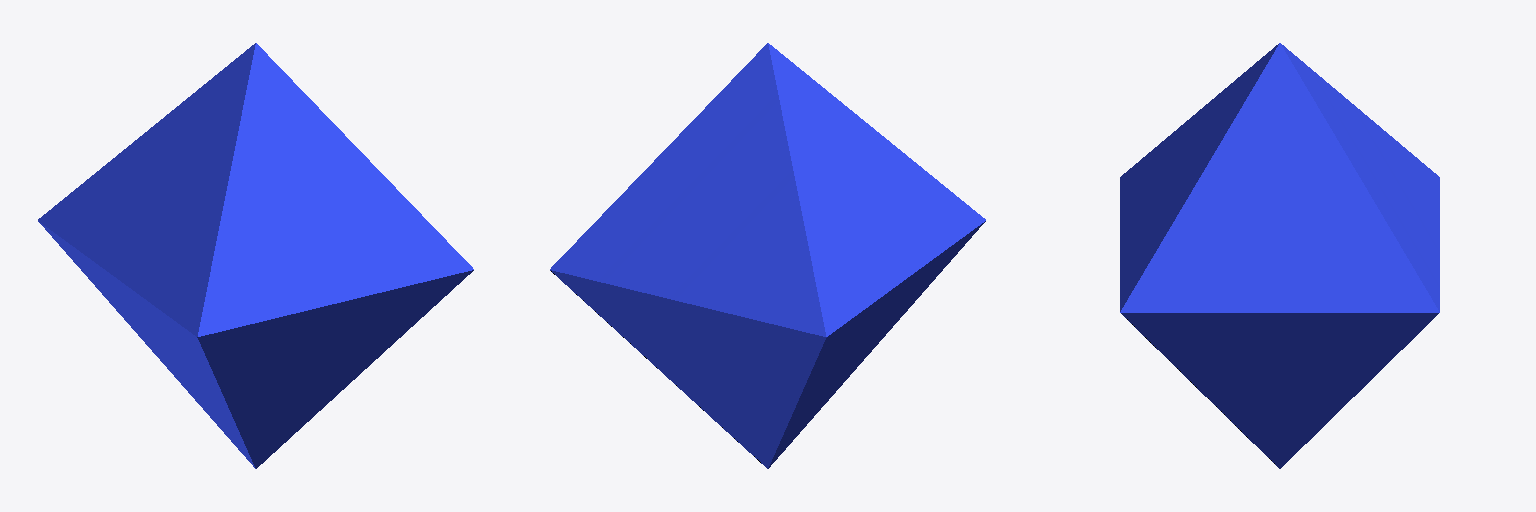
3 views of the same model, side by side, from view 1: azimuth 30°, elevation 25°; view 2: azimuth 150°, elevation 25°; view 3: azimuth 270°, elevation 25° (orthographic).
Parts seen in each view (by area): view 1: 立方体; view 2: 立方体; view 3: 立方体.
Boxes of the visible parts, x1=… form: 立方体: x1=38, y1=43, x2=473, y2=468; 立方体: x1=550, y1=43, x2=985, y2=468; 立方体: x1=1120, y1=43, x2=1439, y2=468.
Size of the model in its own units: 2 by 2.94 by 2.
1 materials, 1 textured.